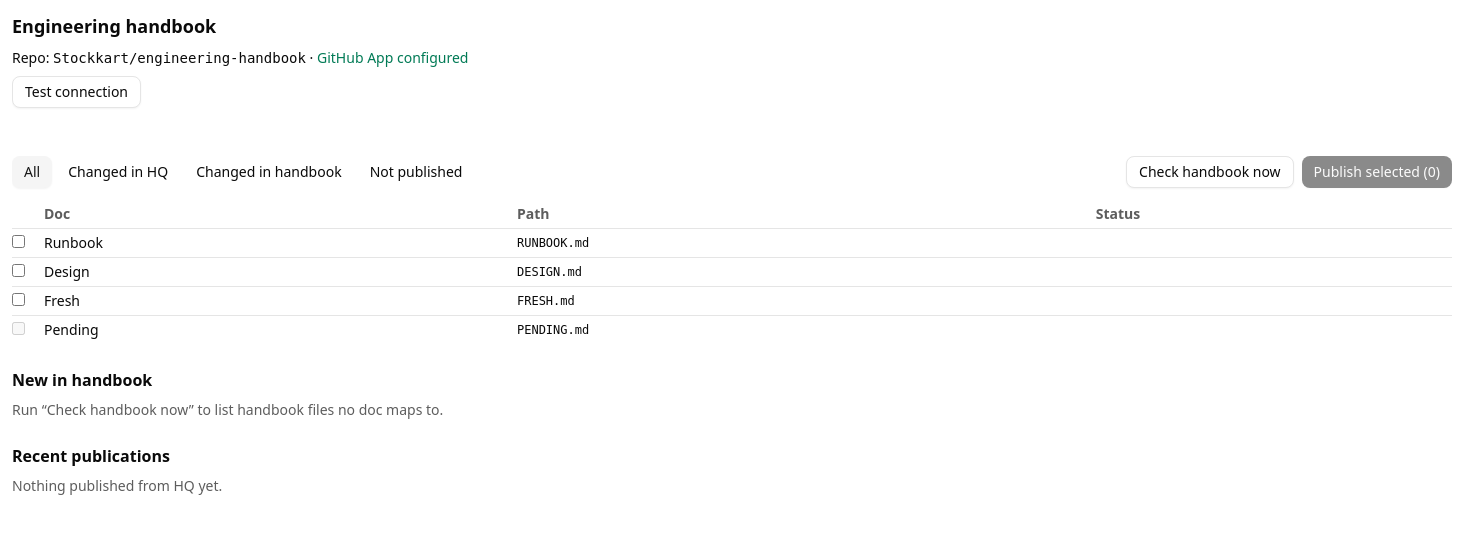
Settings → Handbook tab (DOC-14) › checks the handbook on demand and imports new files
Click the button "Check handbook now". click: {"x": 1210, "y": 172}
box: [1126,156,1294,188]
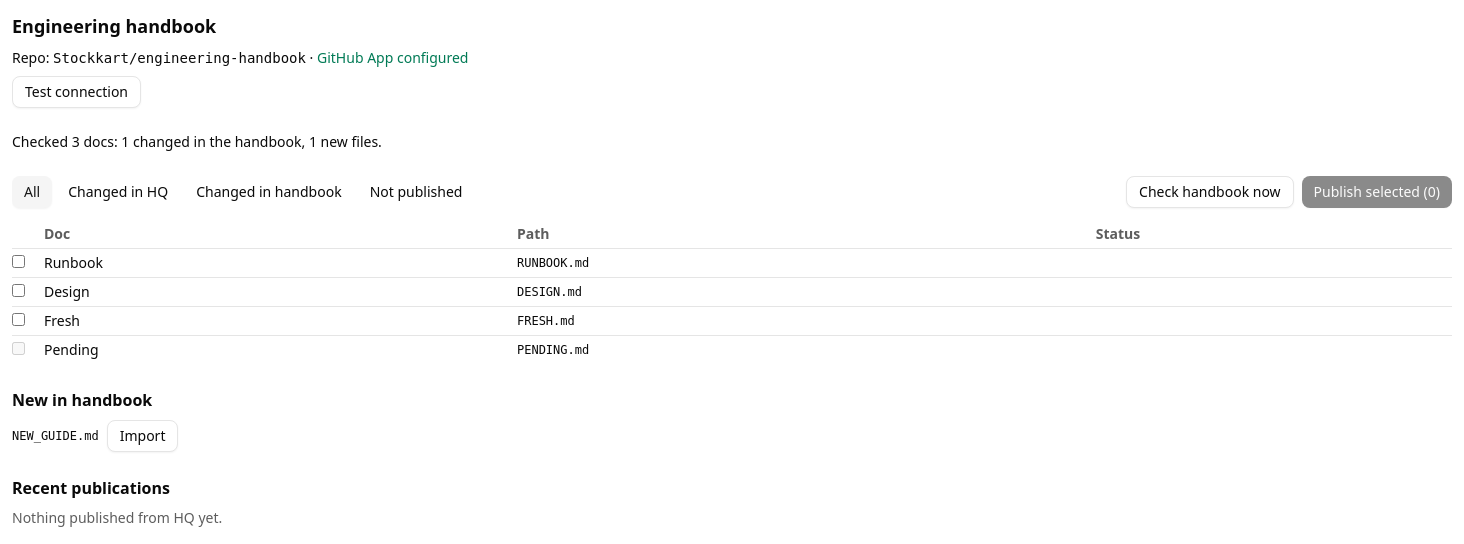
Expected: the text "NEW_GUIDE.md" is shown, [12,428,99,444]
Expected: the text "Checked 3 docs: 1 changed in the handbook, 1 new files." is shown, [12,132,382,151]
Click the button "Import". click: {"x": 143, "y": 436}
box: [107,420,178,452]
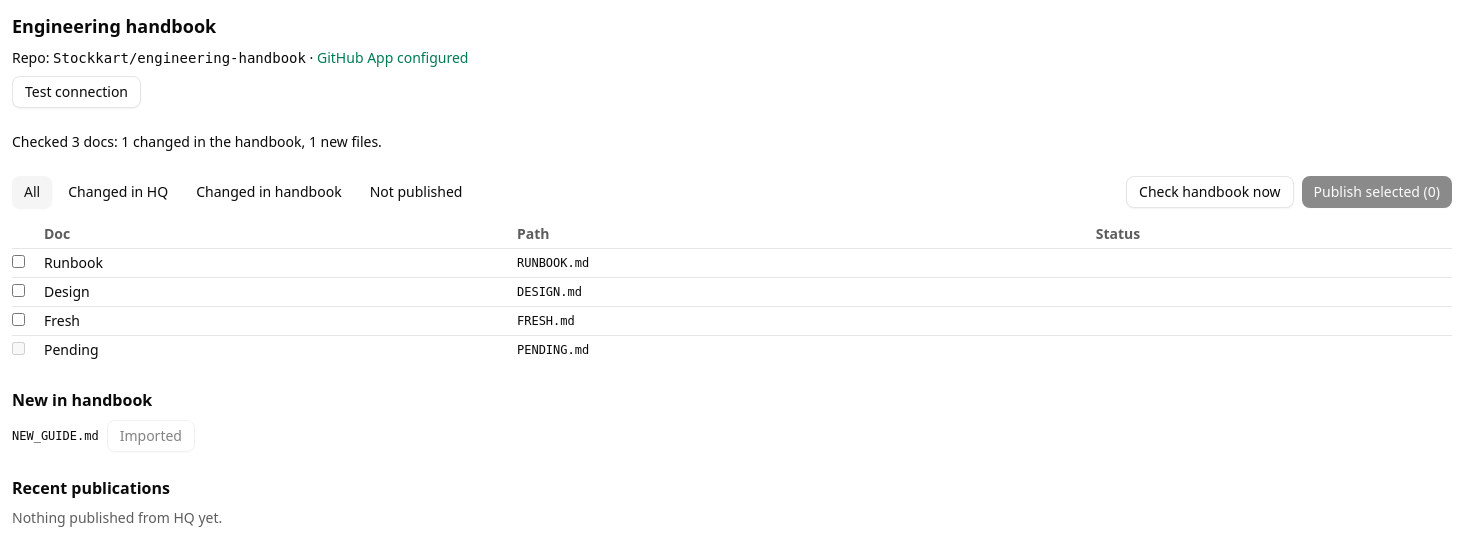
Expected: the button "Imported" is shown, [107,420,195,452]
